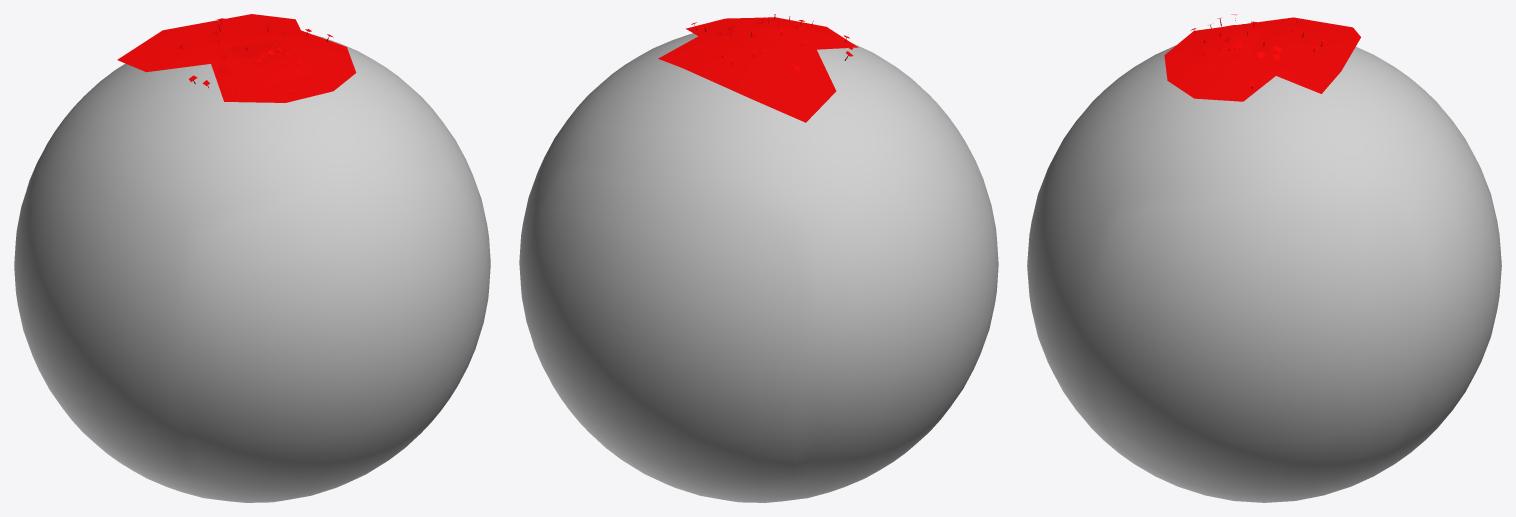
Rendered from Clovers.fbx.
3 renders of one model, left to right at view 1: azimuth 30°, elevation 25°; view 2: azimuth 150°, elevation 25°; view 3: azimuth 270°, elevation 25°, orthographic.
Visible parts, largest first — view 1: GrowbieDirt, Clovers; view 2: GrowbieDirt, Clovers; view 3: GrowbieDirt, Clovers.
Boxes of the visible parts, x1=… form: GrowbieDirt: x1=14, y1=35, x2=490, y2=502; Clovers: x1=117, y1=14, x2=356, y2=102; GrowbieDirt: x1=519, y1=33, x2=998, y2=502; Clovers: x1=658, y1=14, x2=858, y2=122; GrowbieDirt: x1=1027, y1=45, x2=1501, y2=502; Clovers: x1=1164, y1=14, x2=1360, y2=101.
Bounding box in the file's own units: 103 × 106 × 103.
